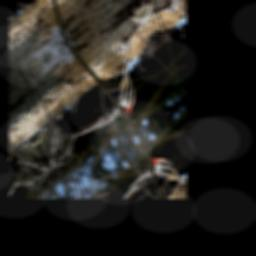Woodpecker: (37, 58, 147, 175)
